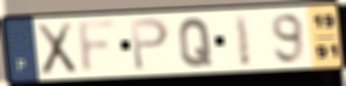9: (270, 12, 308, 64)
F: (76, 17, 120, 76)
I: (232, 12, 254, 69)
P: (128, 16, 172, 73)
Q: (177, 16, 215, 69)
X: (33, 20, 79, 78)
